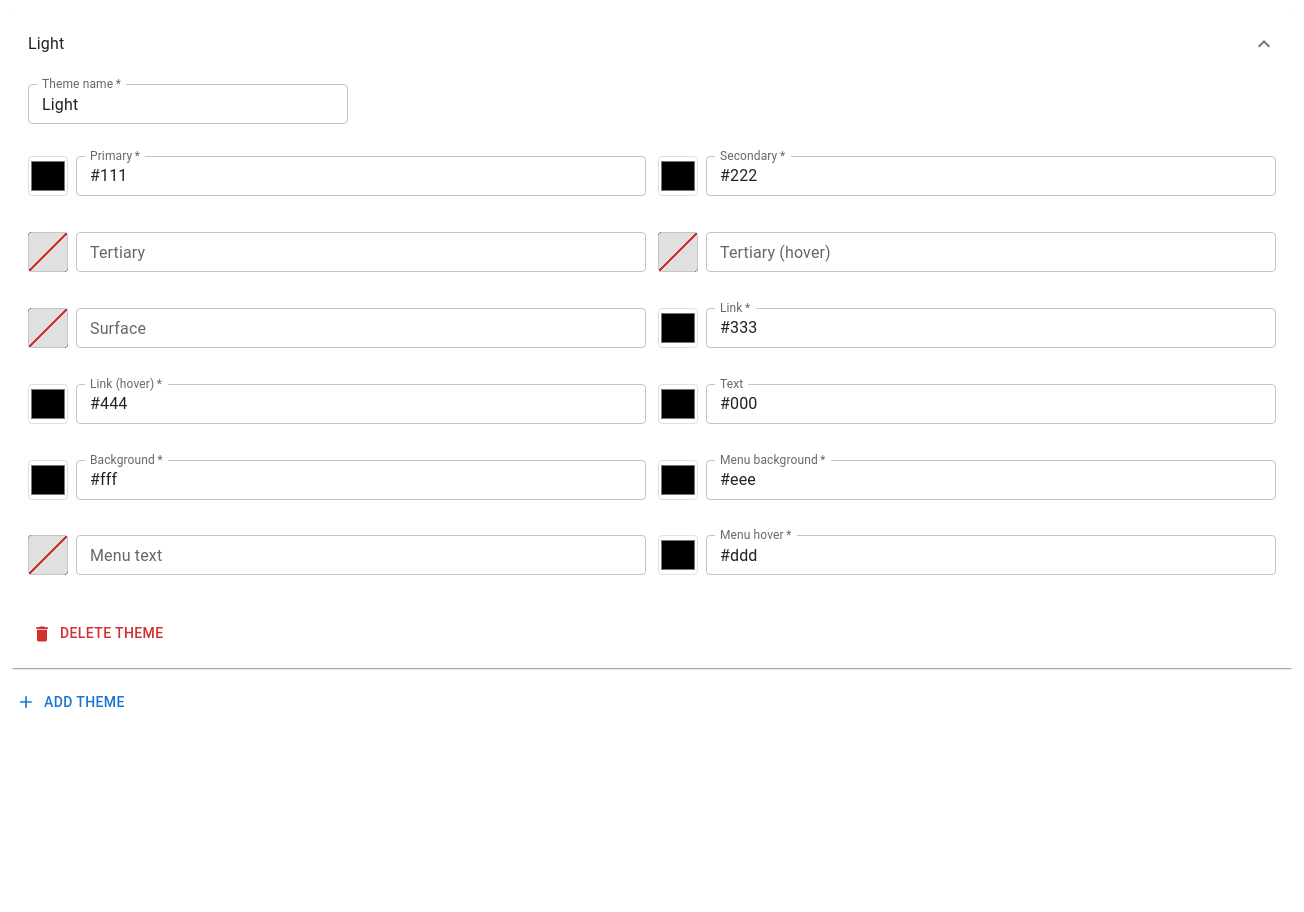
it: ThemesTab › reports a failed write as a toast that stays
expect the text "Light" is shown: met, box [28,32,64,56]
Replace the text in the field labelled "Primary *" with "#abcdef" at (361, 176), box [76,156,646,196]
Wait 850 ms
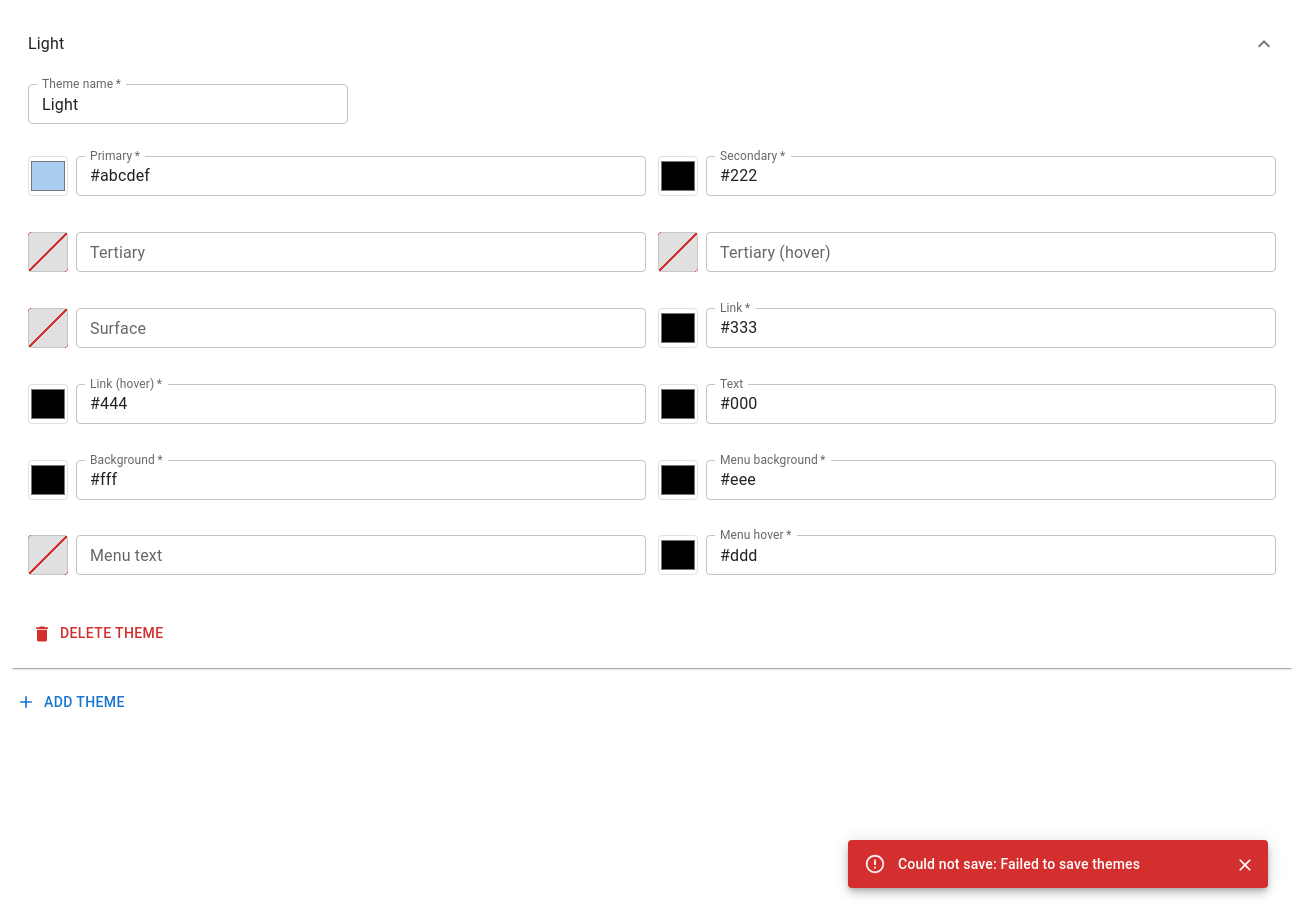
expect the text "Could not save: Failed to save themes" is shown: met, box [898,856,1140,872]
